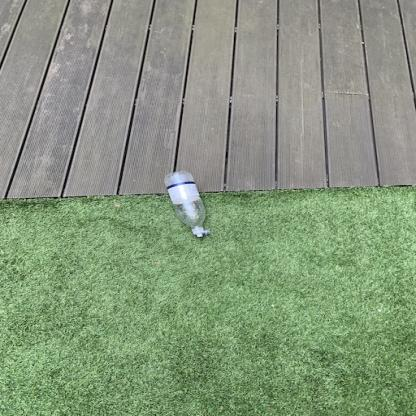trash: (162, 171, 213, 240)
